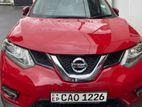car: (1, 0, 142, 106)
